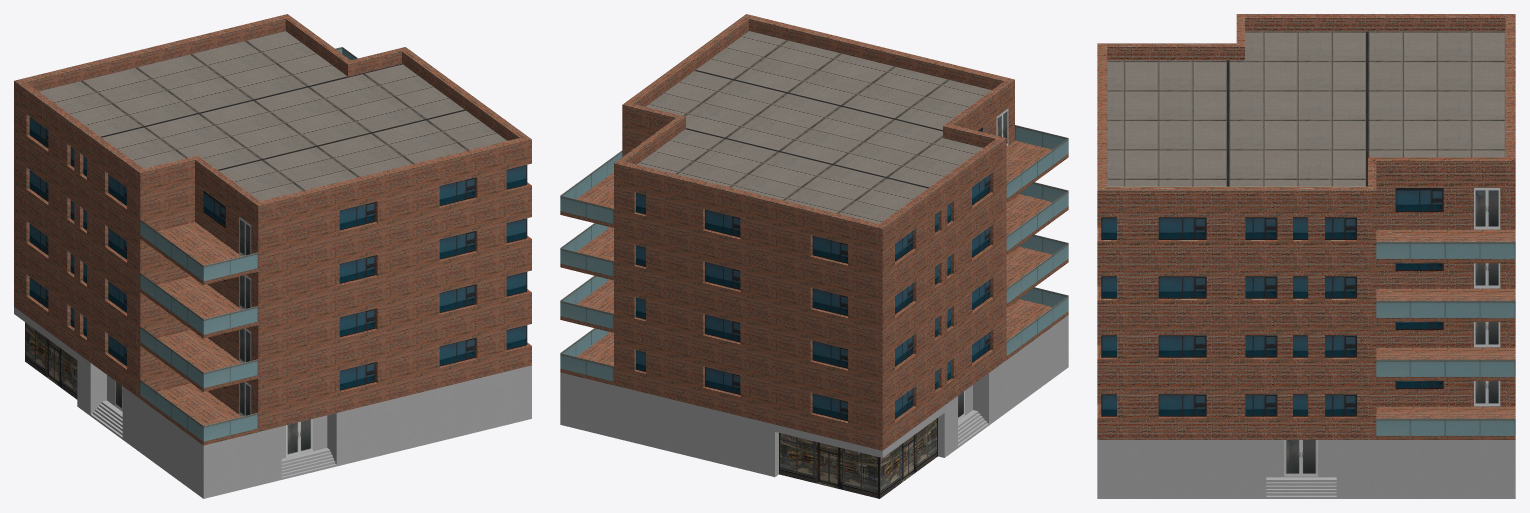
File: SM_DemoBuilding_3_C.fbx
The picture shows the model from 3 angles, left to right: view 1: azimuth 30°, elevation 25°; view 2: azimuth 150°, elevation 25°; view 3: azimuth 270°, elevation 25°; orthographic projection. The views are drawn at different scales.
Visible parts, largest first — view 1: SM_DemoBuilding_3_C_LOD0; view 2: SM_DemoBuilding_3_C_LOD0; view 3: SM_DemoBuilding_3_C_LOD0.
Boxes of the visible parts, left/top/right/bottom form: SM_DemoBuilding_3_C_LOD0: left=14, top=14, right=531, bottom=498; SM_DemoBuilding_3_C_LOD0: left=560, top=14, right=1068, bottom=498; SM_DemoBuilding_3_C_LOD0: left=1097, top=14, right=1515, bottom=498.
Size of what is drawn, in the model's own units: 28.8 by 23.43 by 28.8.
